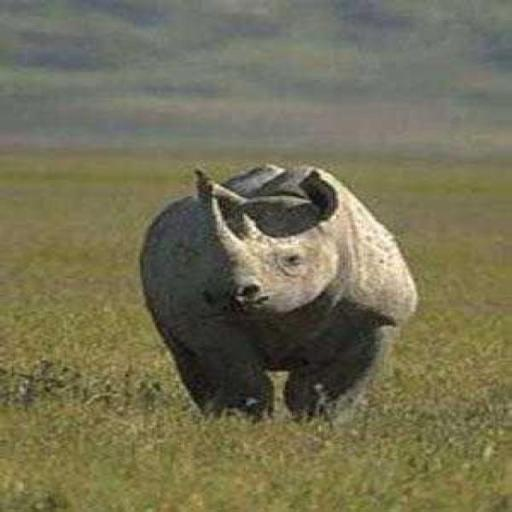Rhino: (136, 161, 418, 426)
